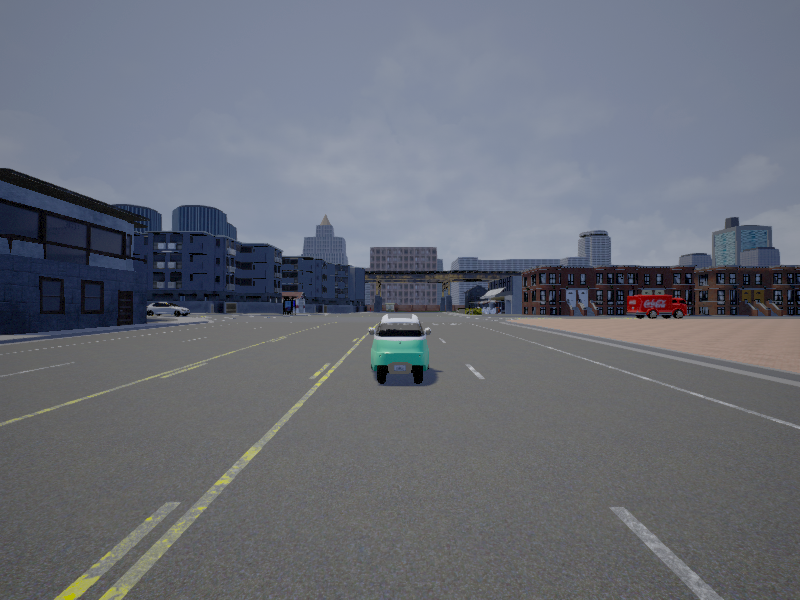Benign: (368, 313, 430, 384), (627, 296, 688, 318), (146, 302, 191, 318)
